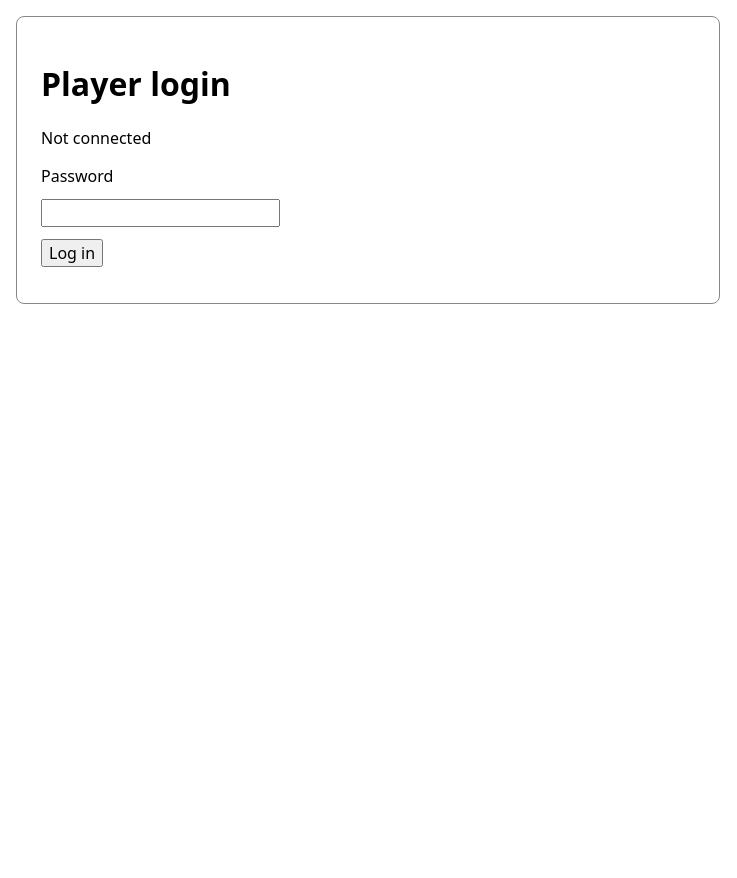
Scenario: player login and session bootstrap › requires reload on HTTP or socket client-version mismatch without retrying the socket
This screenshot has width=737, height=878.
Later steps or results of the test are not shown.
Type "never-persist-this" into the password field named "password". click: (160, 213)
box: [41,199,280,227]
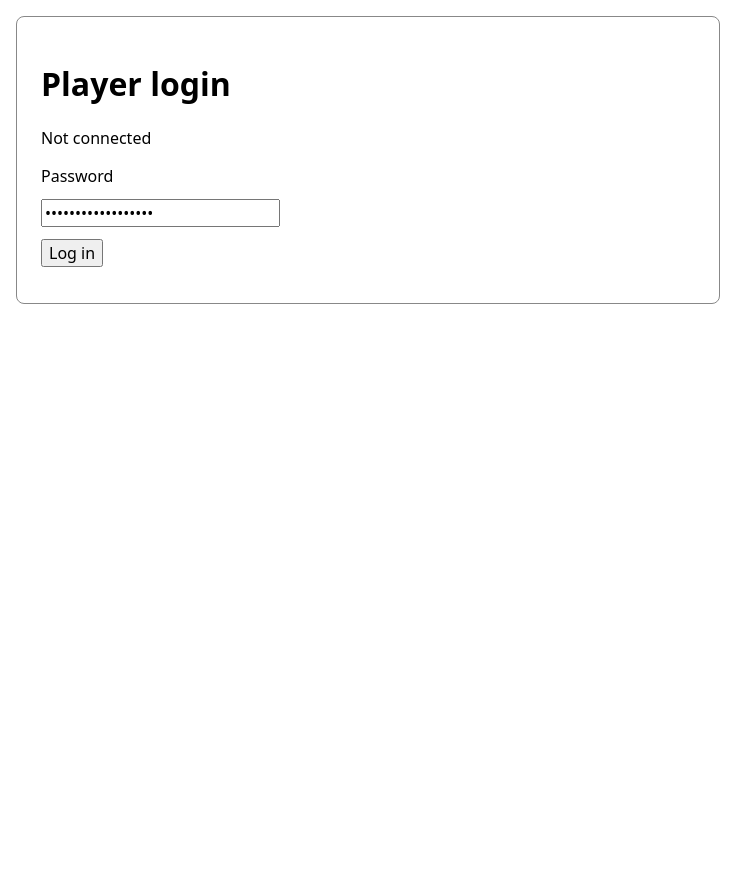
Submit the form, box [41,165,280,267]
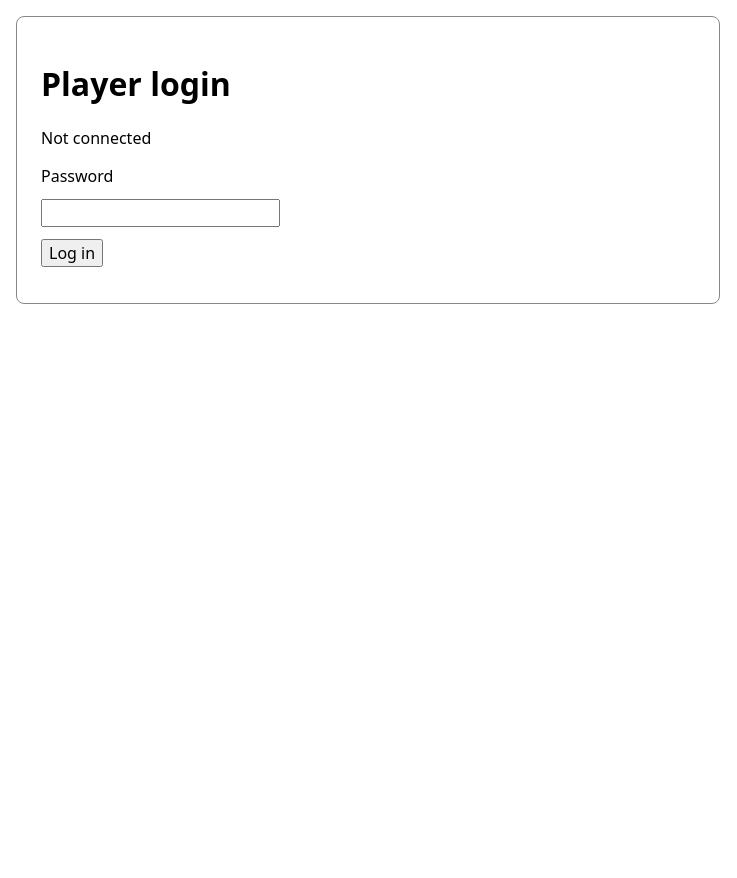
Type "never-persist-this" into the password field named "password". click: (160, 213)
box: [41,199,280,227]
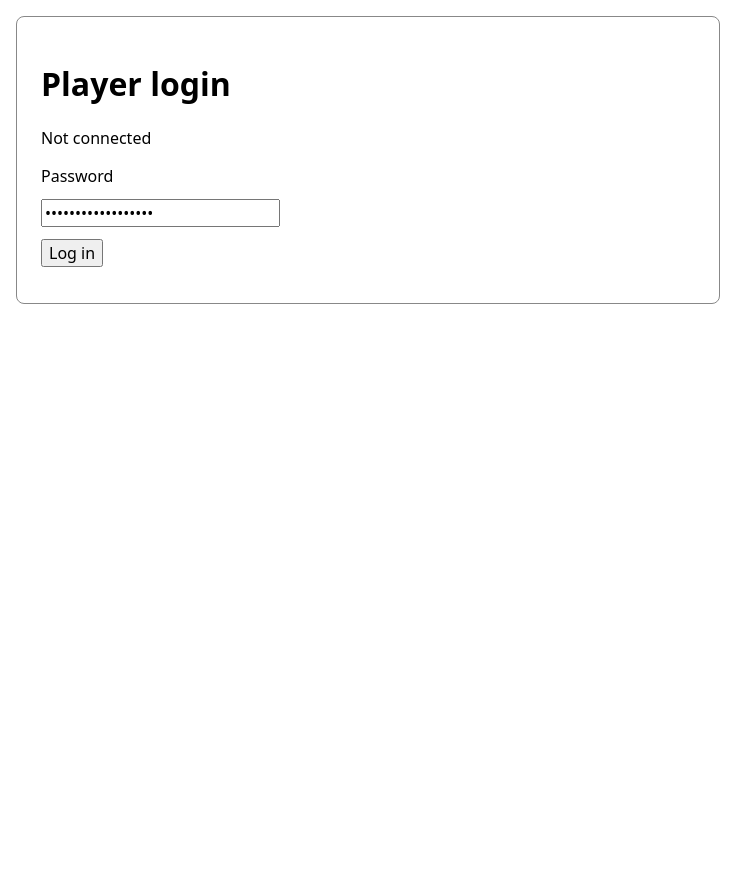
Submit the form, box [41,165,280,267]
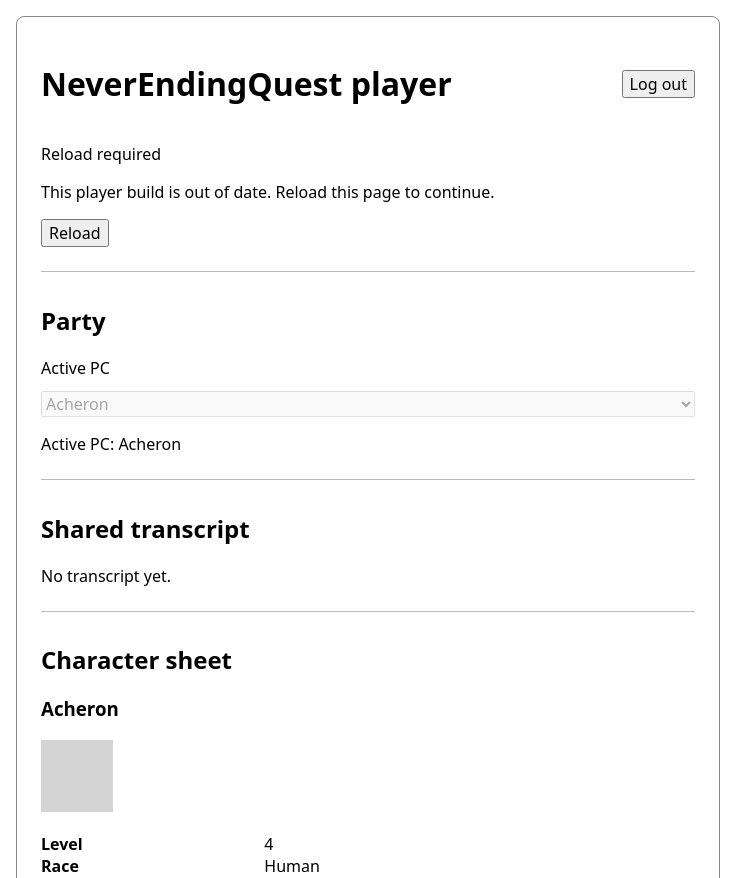
Expected: the text "Reload required" is shown, [41,143,161,165]
